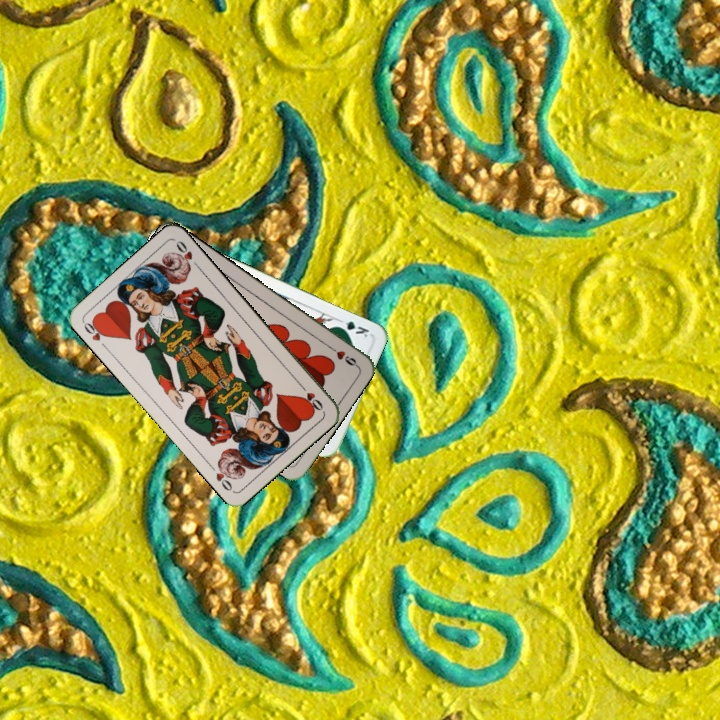GK: (332, 315, 372, 340)
H9: (324, 341, 360, 369)
HO: (295, 379, 326, 413), (79, 315, 110, 343)
